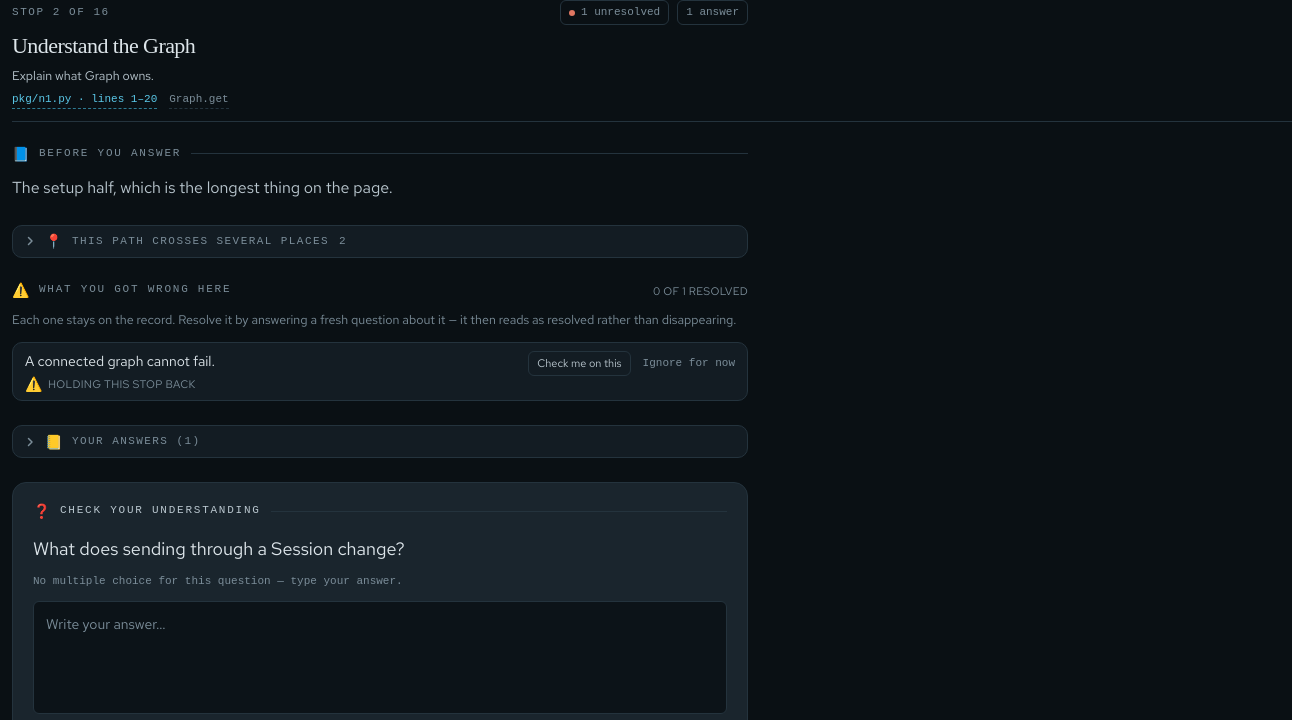
Scenario: FEEDBACK: the verdict, and everything it superseded stepped back › the gap list collapses too, because the key point already named it
Expected: the text "What does sending through a Session change?" is shown, [33, 537, 405, 560]
In the text box with placeholder "Write your answer…": {"x": 380, "y": 658} [33, 601, 727, 714], type "A wrong answer."
(page scrolled)
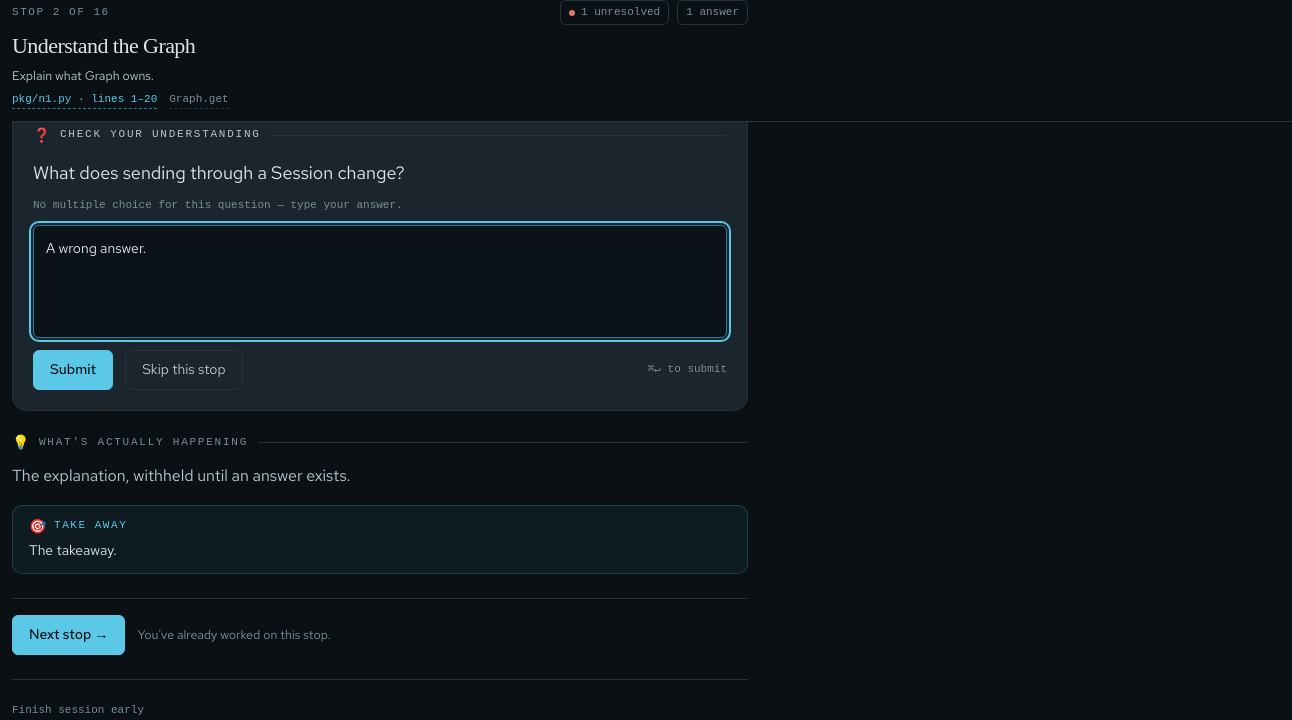
Click the button "Submit": {"x": 73, "y": 370} [33, 350, 113, 390]
(page scrolled)
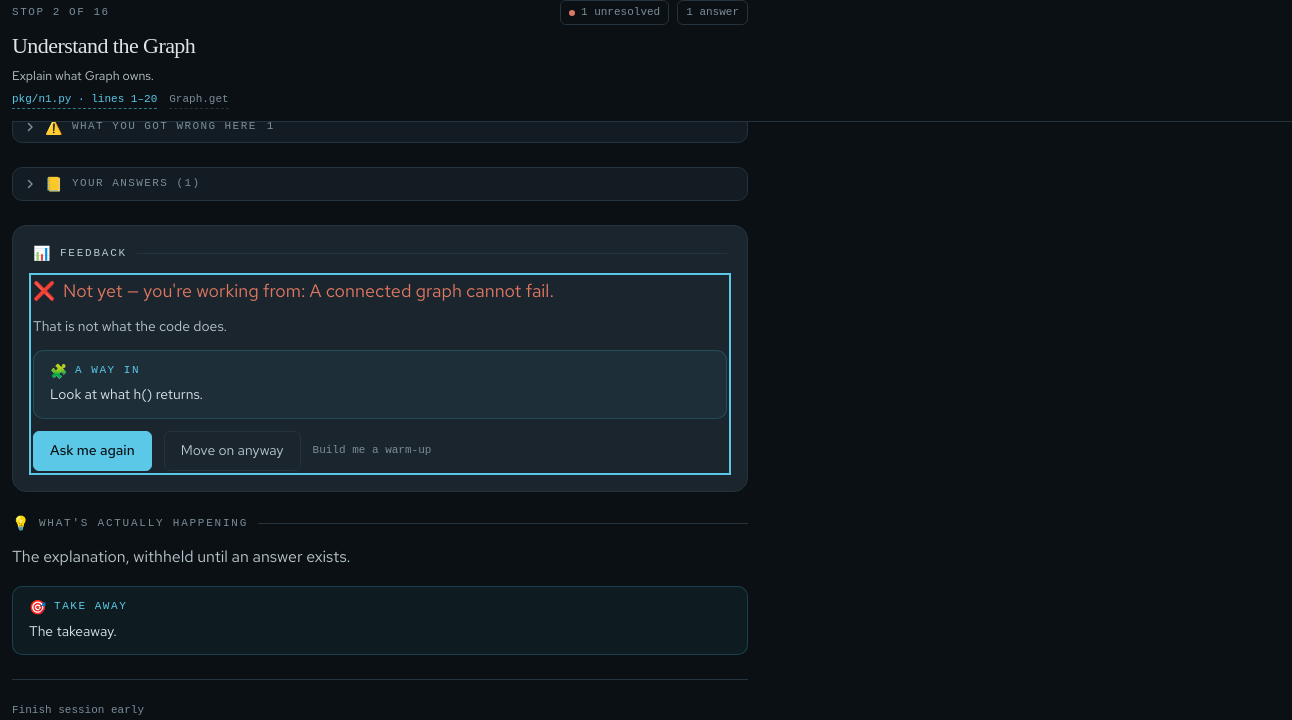
Expected: the text "That is not what the code does." is shown, [33, 317, 227, 335]
Expected: the element showing "⚠️ What you got wrong here 1" is shown, [12, 110, 748, 143]
